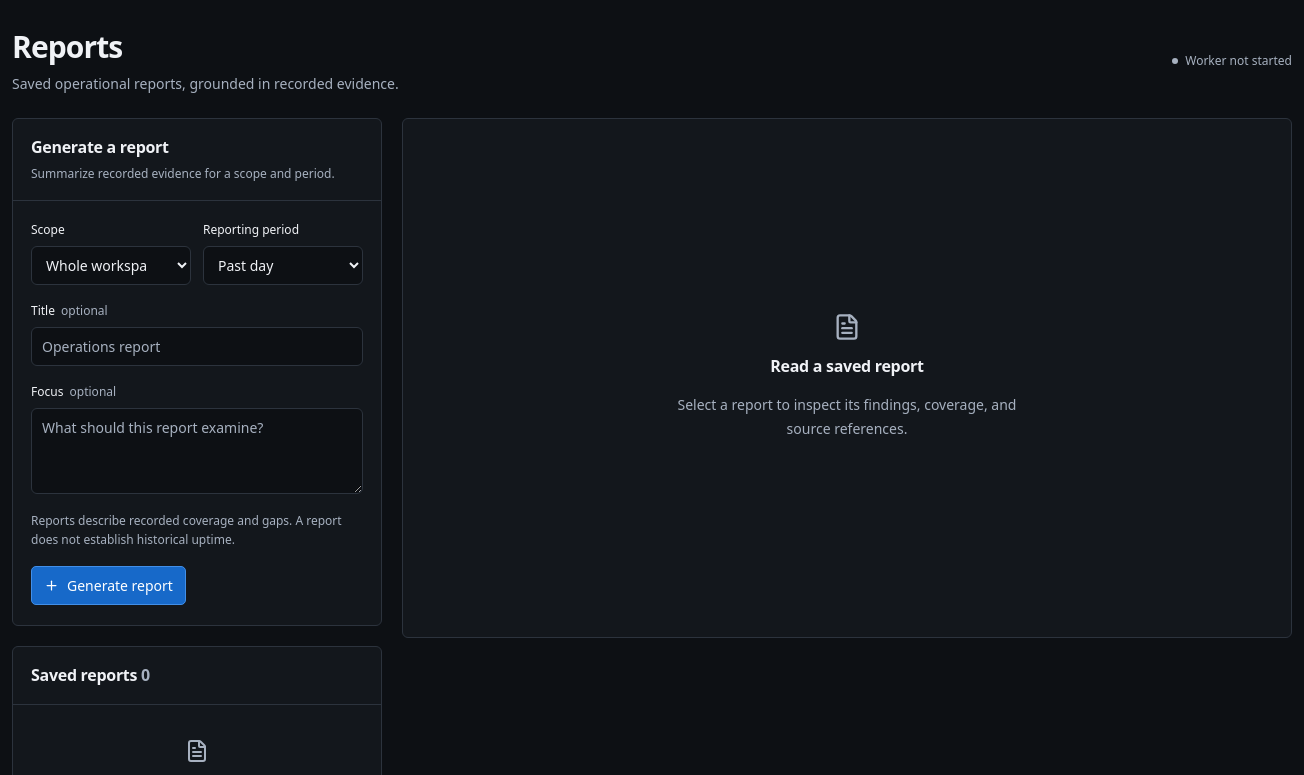
Test: persistent Studio interfaces › rejects an invalid custom report window before creating a job
expect the heading "Reports" is shown: met, box left=12, top=26, right=122, bottom=67
Select "Custom window" in the dropdown labelled "Reporting period" at (283, 266), box left=203, top=246, right=363, bottom=286
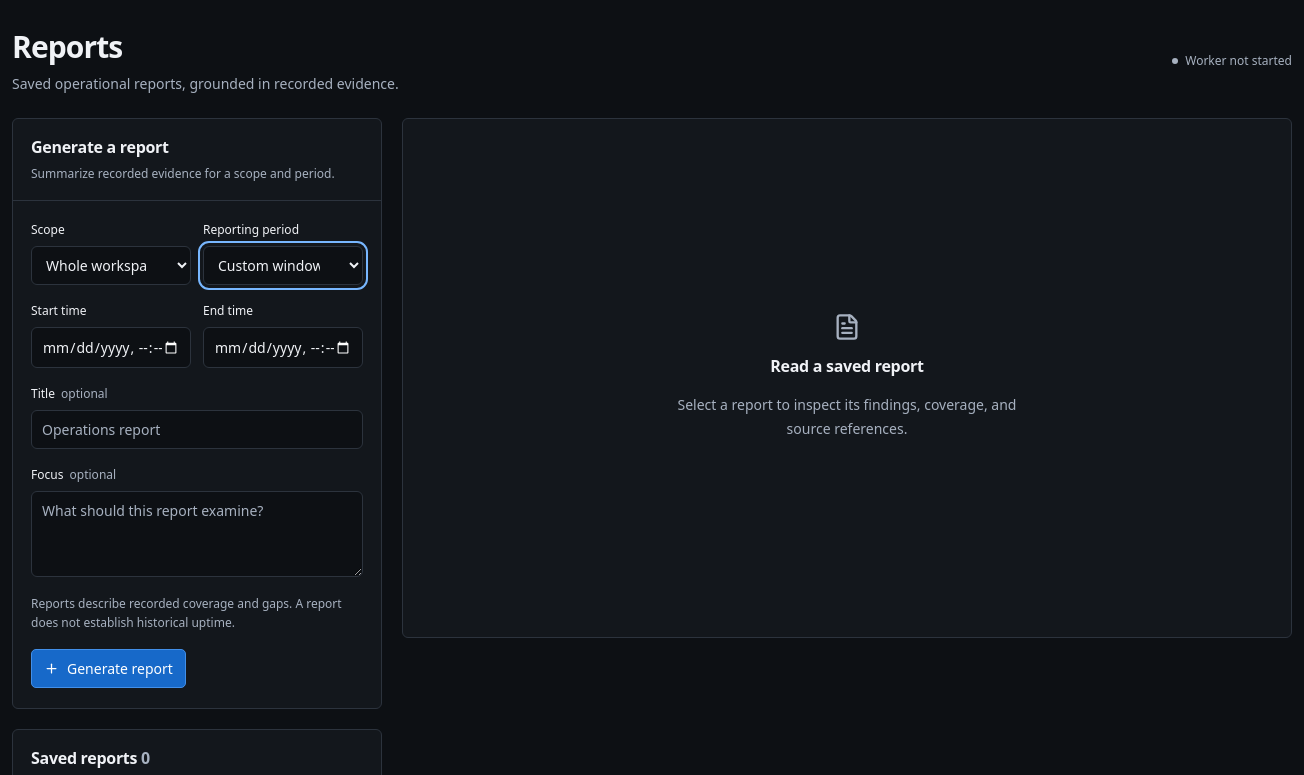
Click the button "Generate report".
click(108, 668)  # box left=31, top=649, right=186, bottom=688
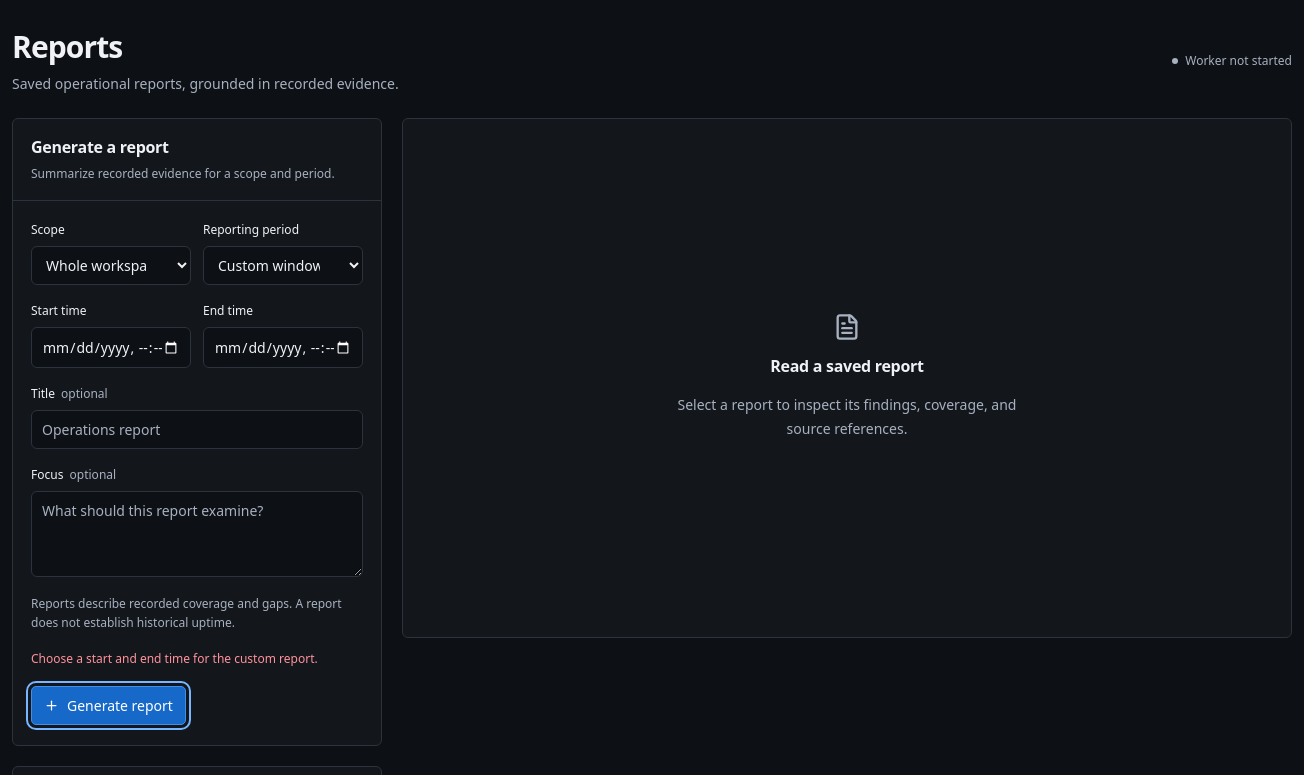
expect the text "Choose a start and end time for the custom report." is shown: met, box left=31, top=649, right=363, bottom=669
